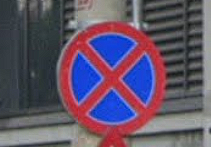oprirea_interzisa: (53, 19, 170, 136)
